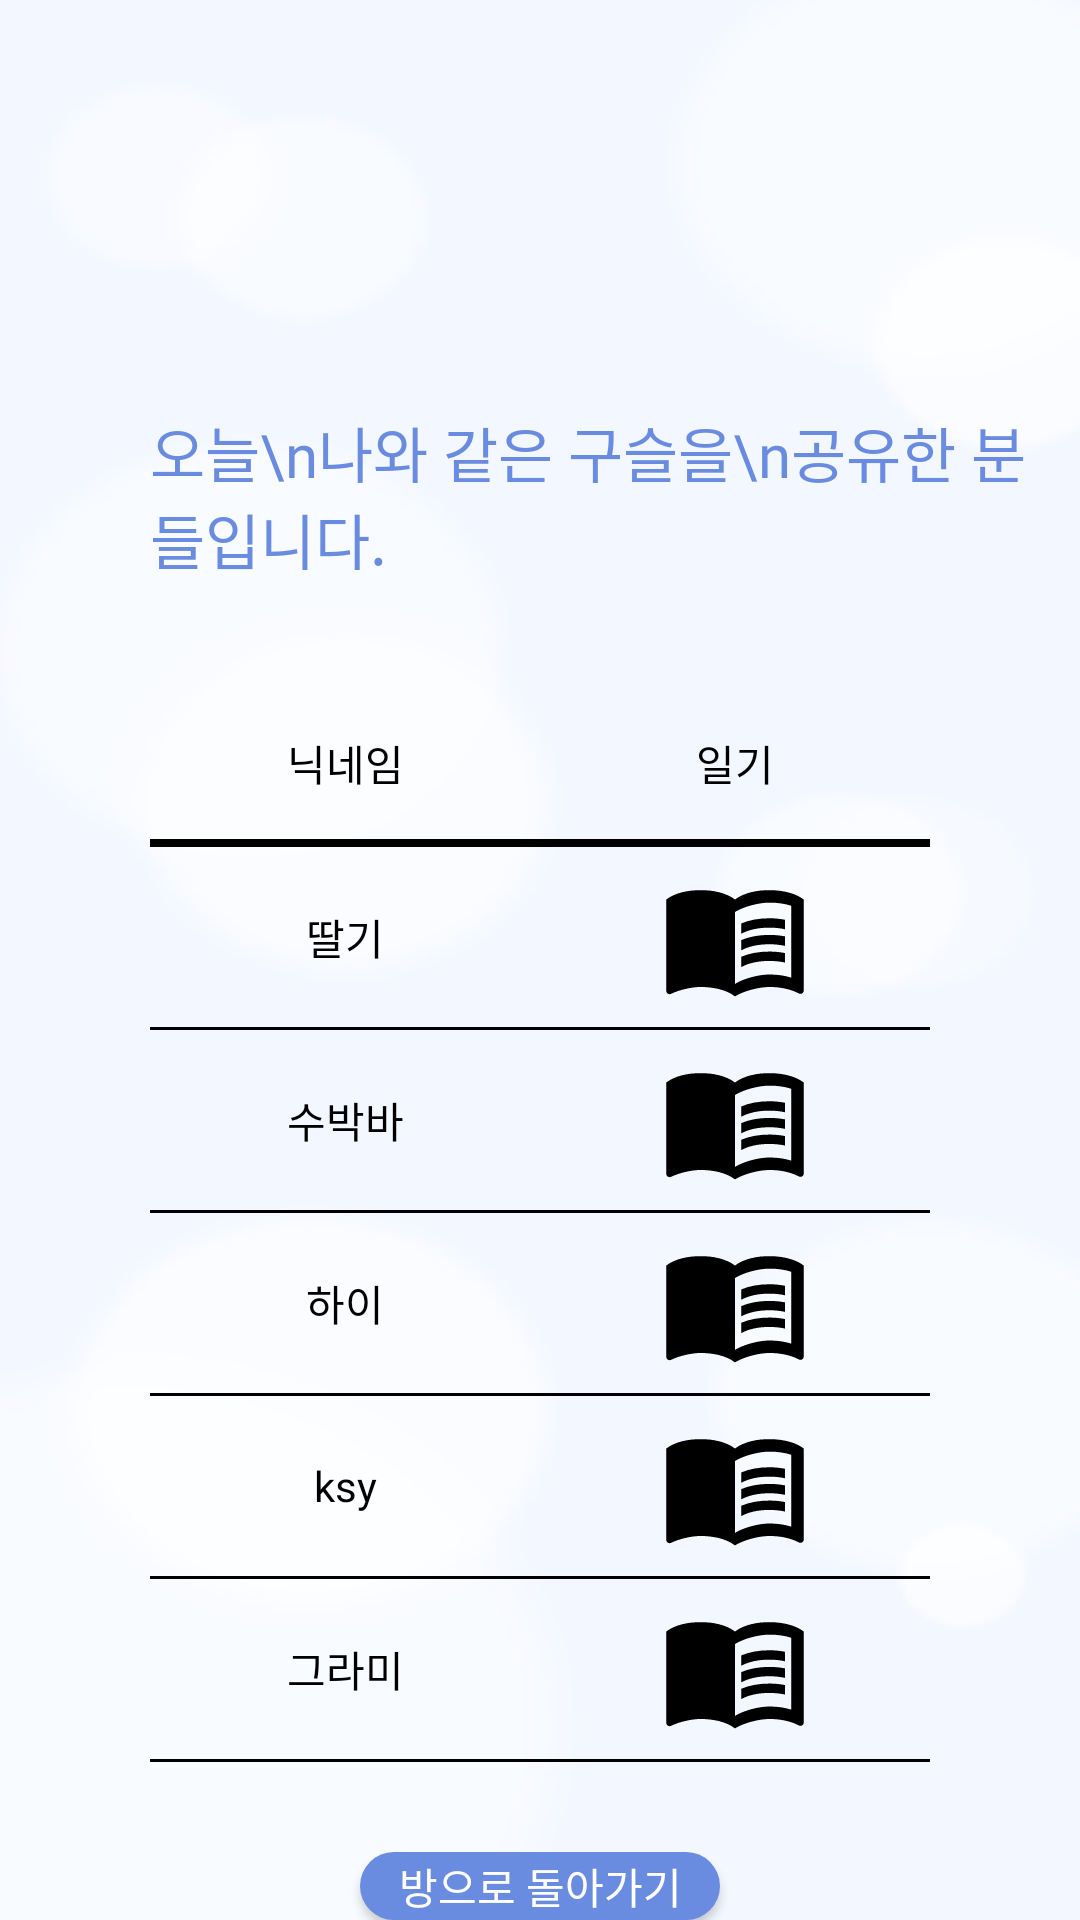

Screen size 1080px×1920px. Icon name, then its center in pixels as (x=x, y=y):
book: (x=735, y=943), (x=735, y=1126), (x=735, y=1309), (x=735, y=1492), (x=735, y=1675)
